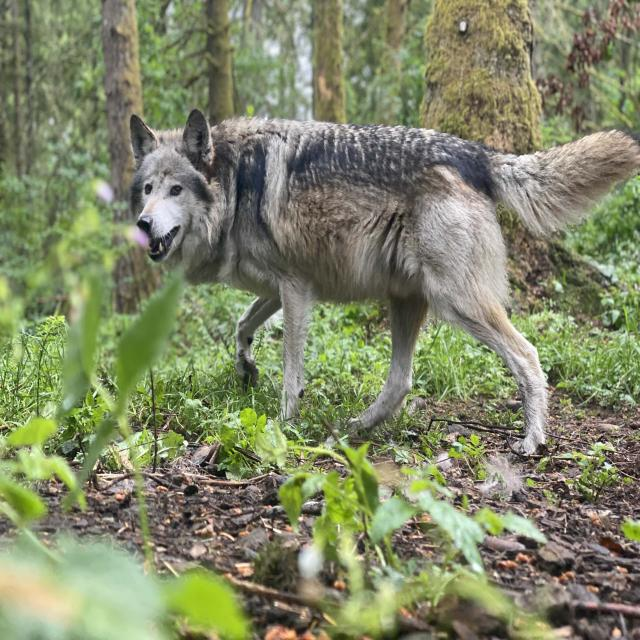Wolf: (118, 105, 640, 463)
